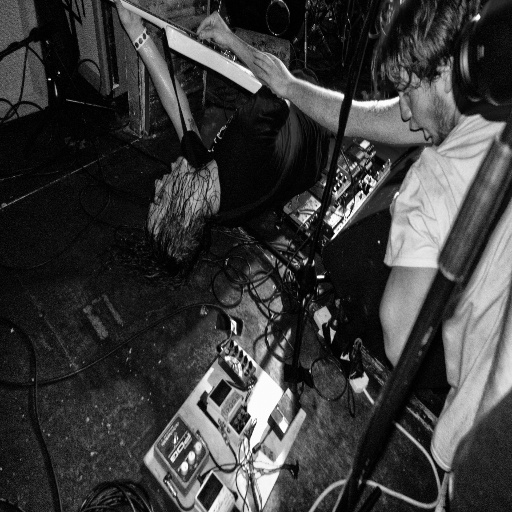hand: (252, 50, 293, 97), (194, 11, 232, 49), (114, 0, 141, 29)
